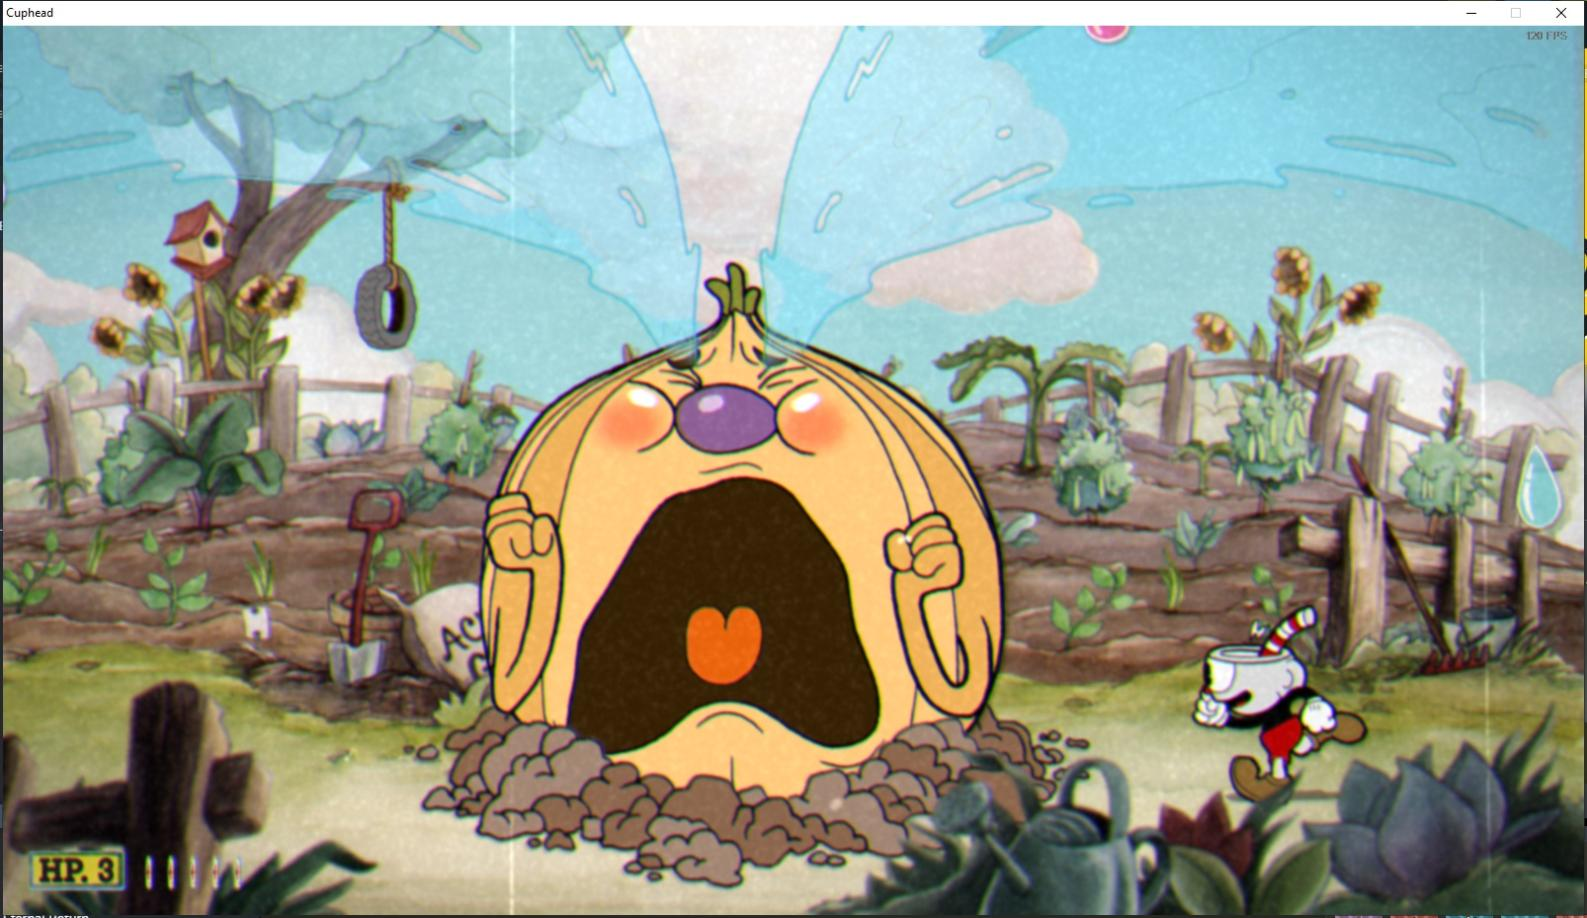hp3: (90, 853, 123, 889)
onion_boss: (470, 254, 1012, 809)
pink_rain: (1080, 24, 1133, 51)
player: (1184, 599, 1375, 803)
rain: (1508, 438, 1570, 548)
